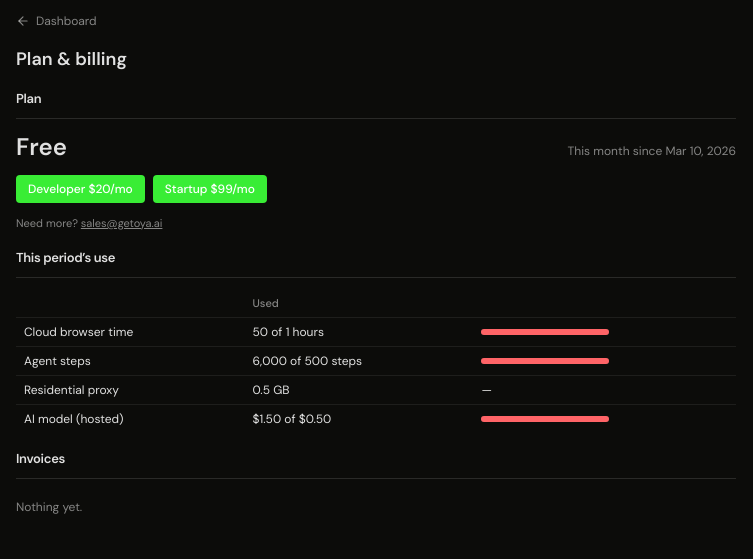
Test: BillingPage › offers a Free person the plans, and says why Checkout could not open
Step 1. Click the button "Startup $99/mo" → (210, 189), box [153, 175, 267, 203]
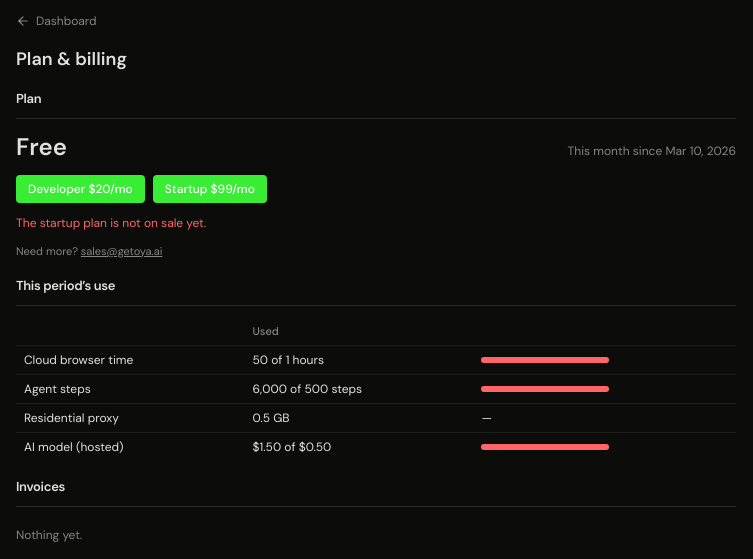
Expected: the text "This month since Mar 10, 2026" is shown, [568, 143, 736, 159]
Now the text "The startup plan is not on sale yet." is shown, box [16, 215, 206, 231]
